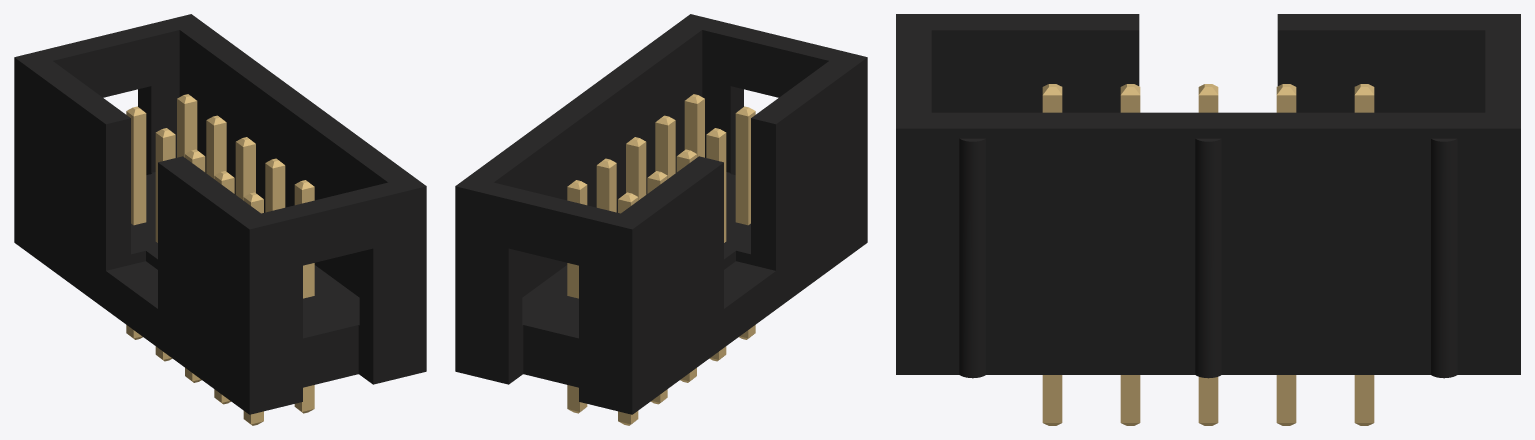
File: kc-idc-header_2x05_p2.54mm_vertical.glb
The picture shows the model from 3 angles, left to right: view 1: azimuth 30°, elevation 25°; view 2: azimuth 150°, elevation 25°; view 3: azimuth 270°, elevation 25°; orthographic projection. The views are drawn at different scales.
Parts seen in each view (by area): view 1: 0_0_0_0, 0.75_0.5_0.25_0.9; view 2: 0_0_0_0, 0.75_0.5_0.25_0.9; view 3: 0_0_0_0, 0.75_0.5_0.25_0.9.
Boxes of the visible parts, x1,y1,x2,y2 form: 0_0_0_0: [14, 14, 426, 414]; 0.75_0.5_0.25_0.9: [126, 94, 314, 425]; 0_0_0_0: [455, 14, 867, 414]; 0.75_0.5_0.25_0.9: [567, 94, 755, 425]; 0_0_0_0: [896, 14, 1520, 378]; 0.75_0.5_0.25_0.9: [1042, 84, 1374, 425].
Bounding box in the file's own units: 0.91 × 1.21 × 2.04.
